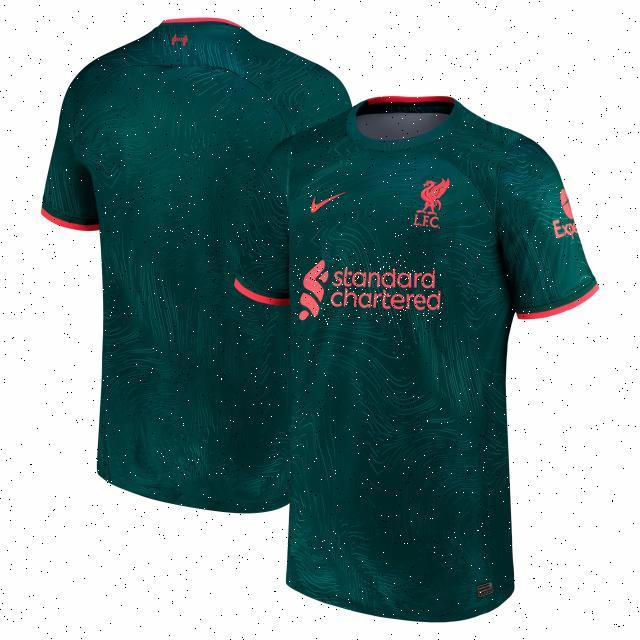Nike: (306, 186, 339, 210)
Standard Chartered: (294, 256, 443, 324)
